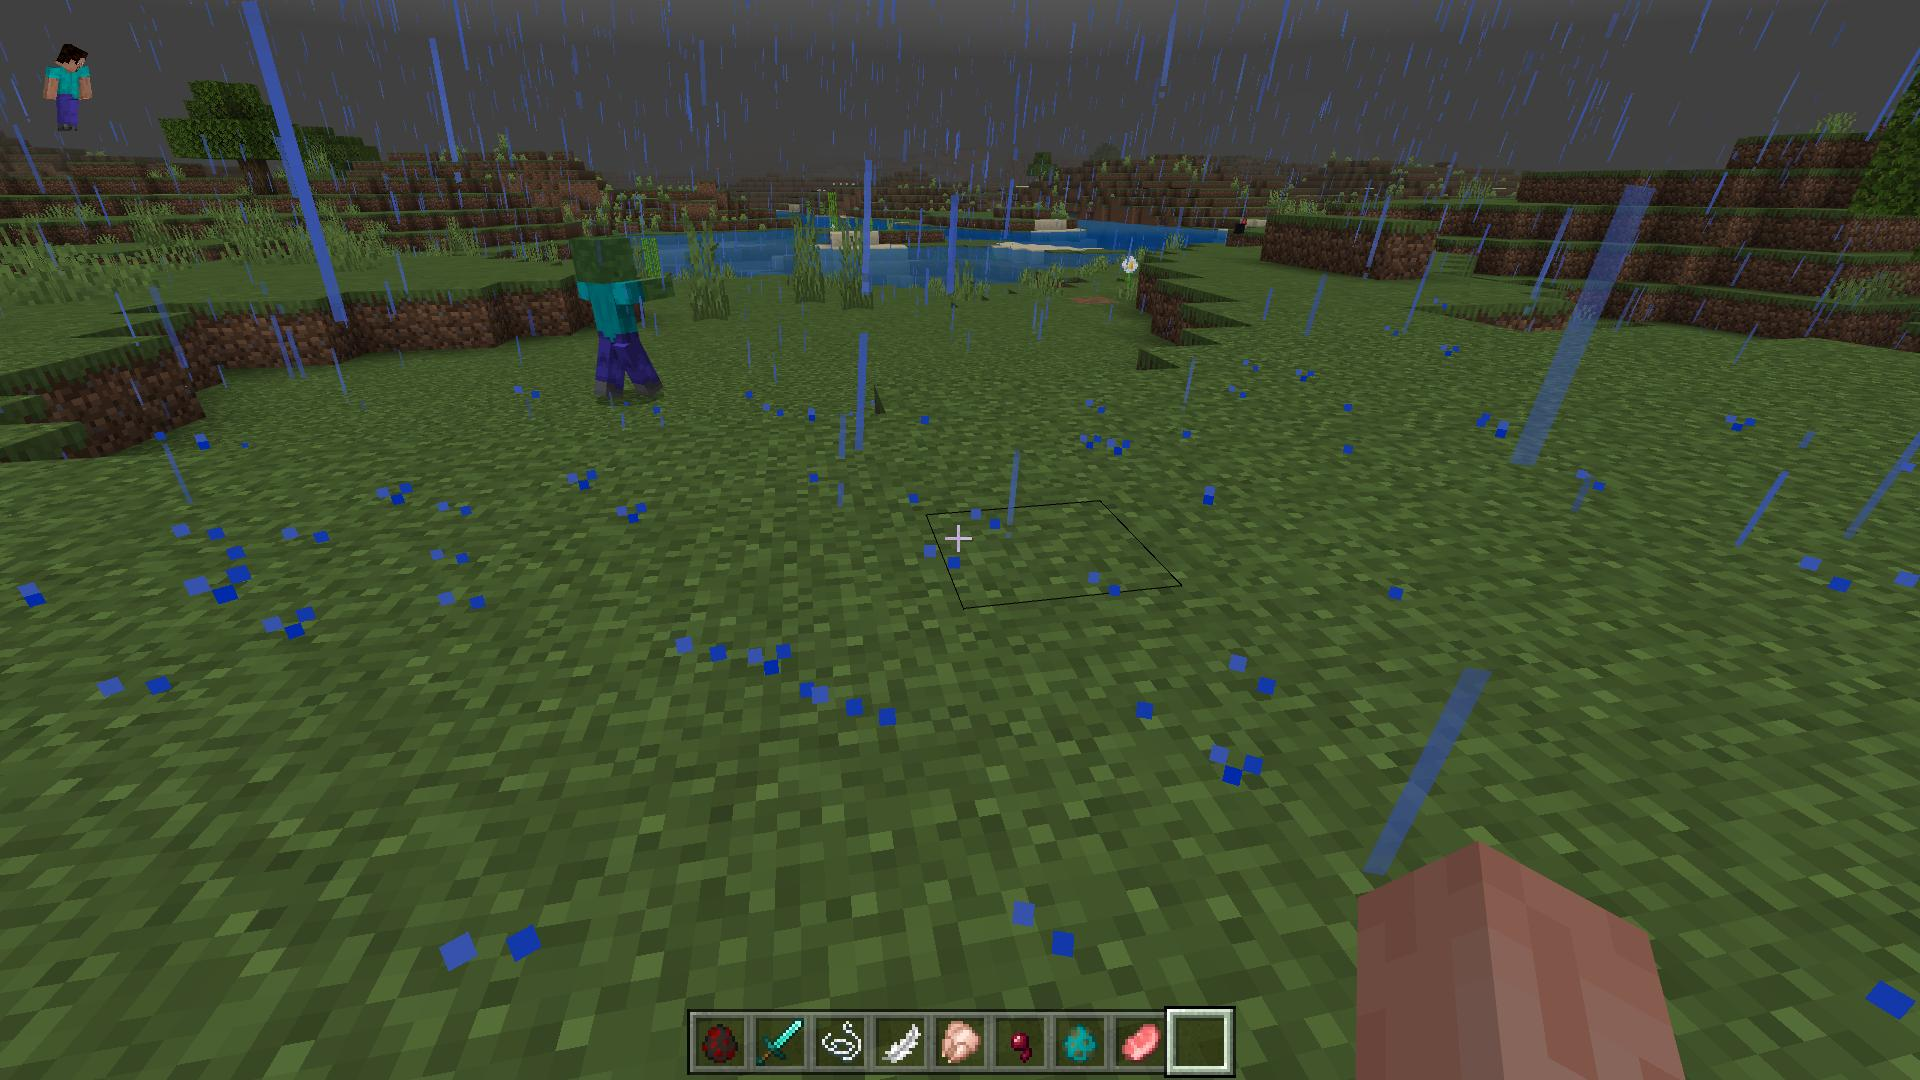zombie: (568, 229, 675, 413)
